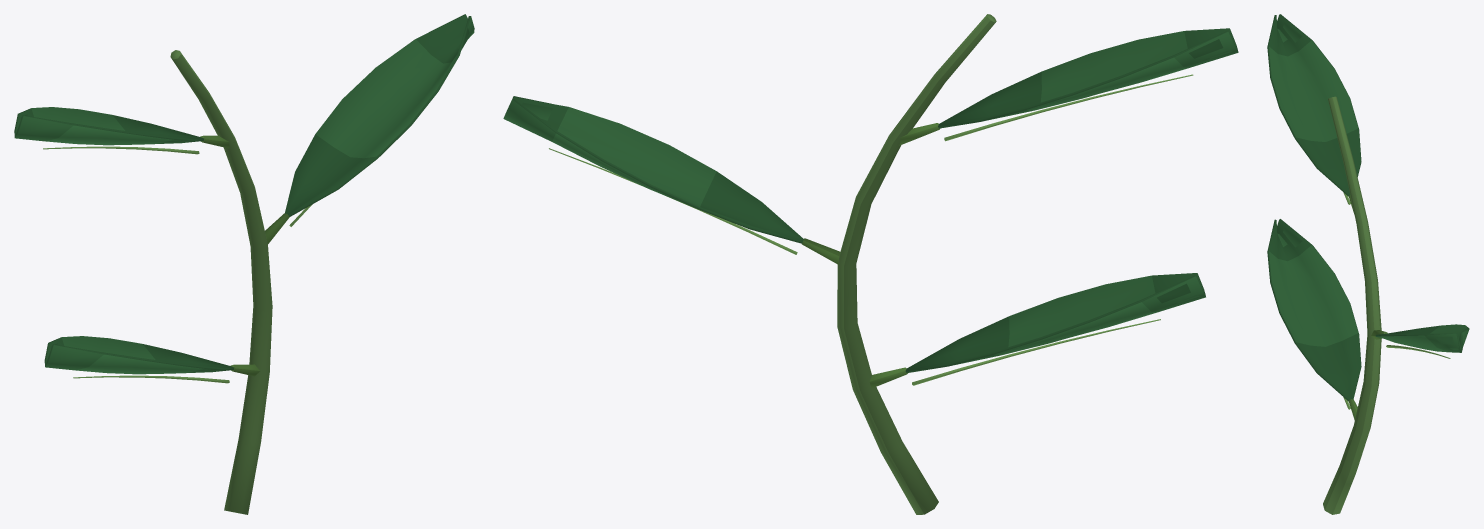
Rendered from garden-tulip-leaves-stem-3.glb.
3 renders of one model, left to right at view 1: azimuth 30°, elevation 25°; view 2: azimuth 150°, elevation 25°; view 3: azimuth 270°, elevation 25°, orthographic. The views are drawn at different scales.
Visible parts, largest first — view 1: tulip-leaves-stem-3; view 2: tulip-leaves-stem-3; view 3: tulip-leaves-stem-3.
Boxes of the visible parts, x1,y1,x2,y2 form: tulip-leaves-stem-3: (14, 14, 474, 514); tulip-leaves-stem-3: (503, 14, 1238, 514); tulip-leaves-stem-3: (1267, 14, 1469, 514).
Size of the model in its own units: 0.3702 by 0.3008 by 0.1386.
